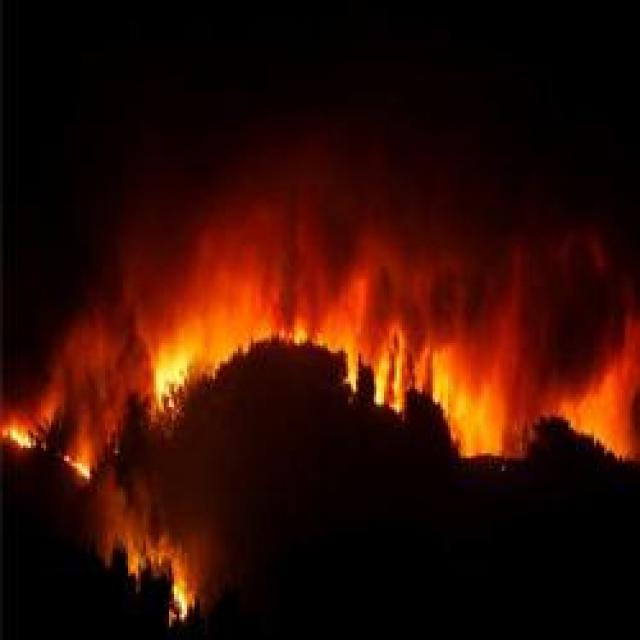fire: (375, 330, 404, 403), (153, 355, 188, 407), (6, 424, 38, 456)
smoke: (191, 213, 388, 321), (366, 245, 545, 326), (442, 343, 514, 455), (573, 320, 640, 432), (173, 256, 252, 343), (56, 316, 142, 371)
